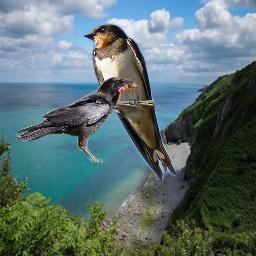Crow: (15, 74, 148, 163)
Swallow: (82, 23, 176, 180)
